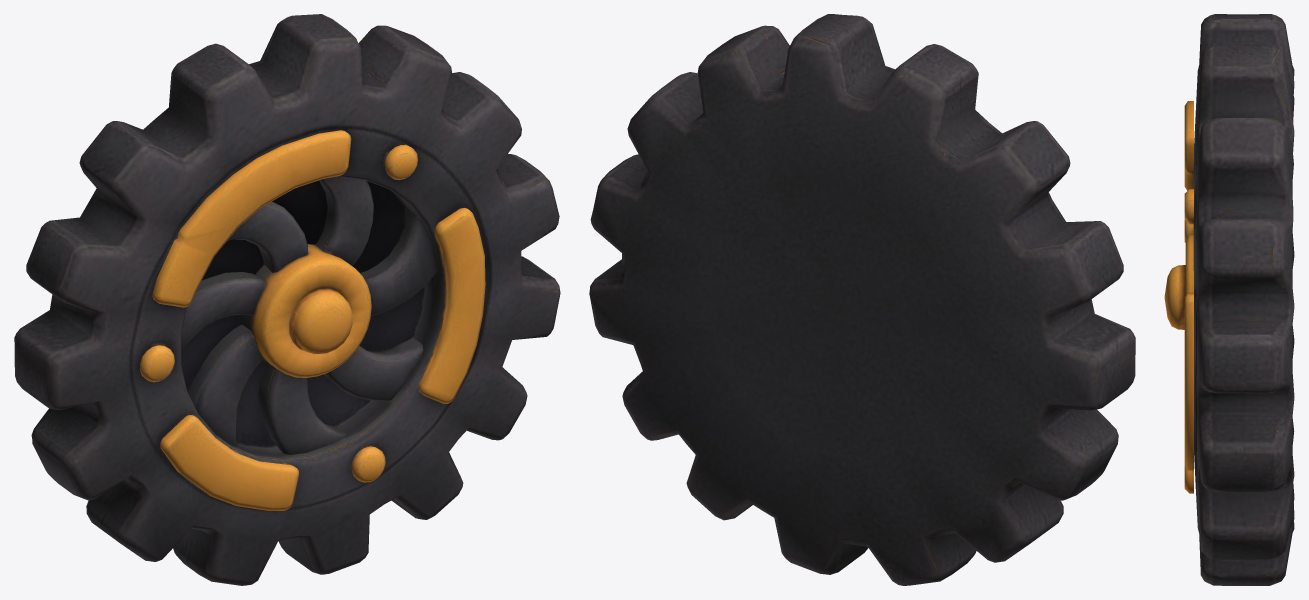
File: cave-gear.glb
The picture shows the model from 3 angles, left to right: view 1: azimuth 30°, elevation 25°; view 2: azimuth 150°, elevation 25°; view 3: azimuth 270°, elevation 25°; orthographic projection. The views are drawn at different scales.
Visible parts, largest first — view 1: cave-gear; view 2: cave-gear; view 3: cave-gear.
Part boxes in pixels (left/top/right/bottom): cave-gear: left=14, top=14, right=560, bottom=585; cave-gear: left=589, top=14, right=1135, bottom=585; cave-gear: left=1164, top=14, right=1294, bottom=585.
Bounding box in the file's own units: 0.9995 × 0.9995 × 0.2271.
Materials: 1 (1 with a texture image).
